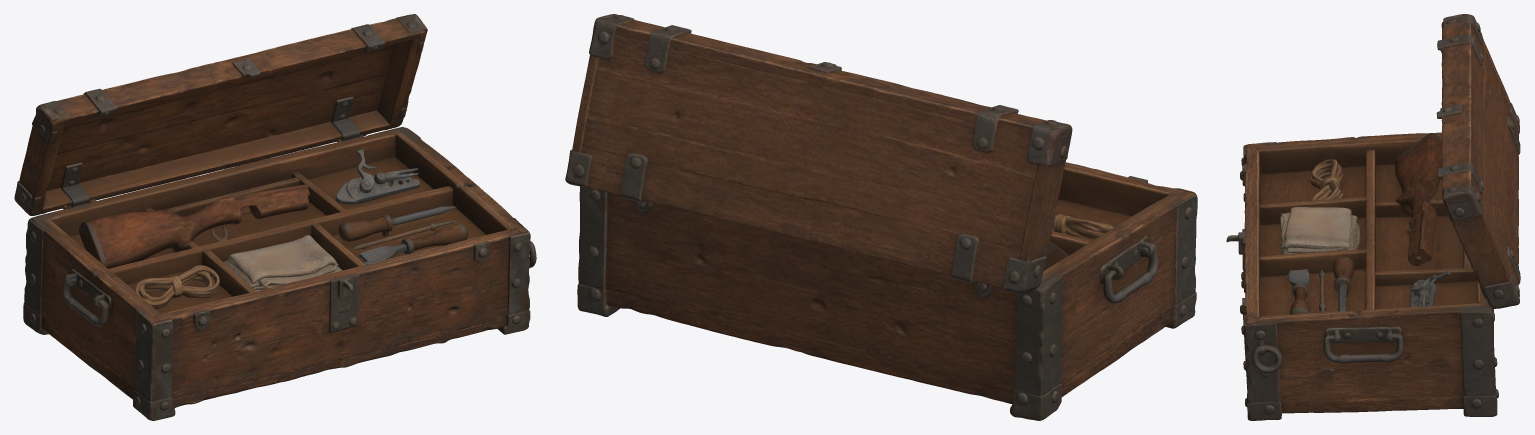
Rendered from cebeci-silah-sandigi-acik-1550-1600-tripo-v2.glb.
3 renders of one model, left to right at view 1: azimuth 30°, elevation 25°; view 2: azimuth 150°, elevation 25°; view 3: azimuth 270°, elevation 25°, orthographic. The views are drawn at different scales.
Visible parts, largest first — view 1: tripo_node_18e91814-8cba-46bc-9dc6-19029d4a2552; view 2: tripo_node_18e91814-8cba-46bc-9dc6-19029d4a2552; view 3: tripo_node_18e91814-8cba-46bc-9dc6-19029d4a2552.
Boxes of the visible parts, x1=… form: tripo_node_18e91814-8cba-46bc-9dc6-19029d4a2552: x1=14, y1=14, x2=536, y2=420; tripo_node_18e91814-8cba-46bc-9dc6-19029d4a2552: x1=565, y1=14, x2=1197, y2=420; tripo_node_18e91814-8cba-46bc-9dc6-19029d4a2552: x1=1226, y1=14, x2=1520, y2=420.
Bounding box in the file's own units: 1 × 0.5553 × 0.6411.
Materials: 1 (1 with a texture image).
